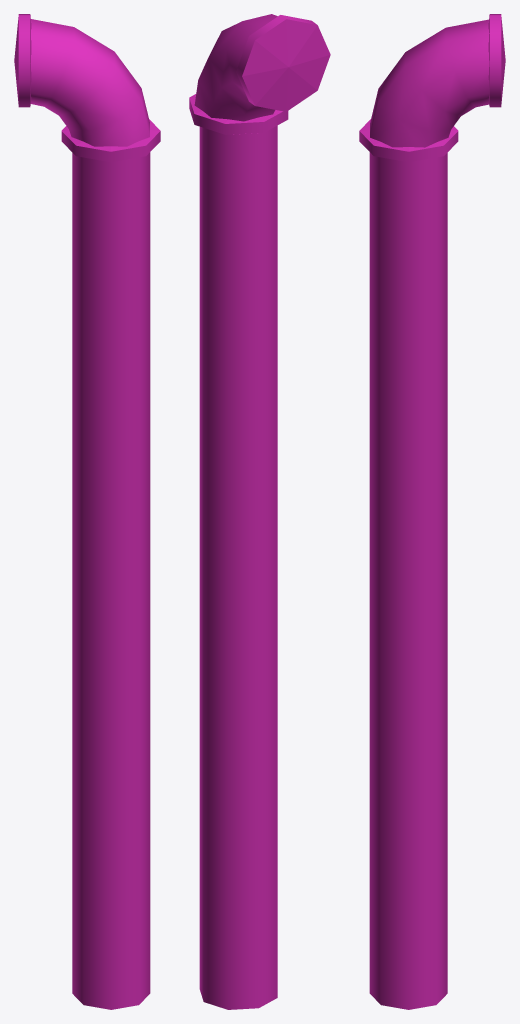
Rendered from Pipe_08_Lod1.fbx.
The picture shows the model from 3 angles, left to right: view 1: azimuth 90°, elevation 25°; view 2: azimuth 210°, elevation 25°; view 3: azimuth 270°, elevation 25°; orthographic projection. The views are drawn at different scales.
Visible parts, largest first — view 1: Pipe_08_Lod1; view 2: Pipe_08_Lod1; view 3: Pipe_08_Lod1.
Part boxes in pixels (x1,y1,x2,y2): Pipe_08_Lod1: [14, 14, 160, 1009]; Pipe_08_Lod1: [189, 14, 330, 1009]; Pipe_08_Lod1: [359, 14, 505, 1009].
Bounding box in the file's own units: 313 × 3403 × 462.
